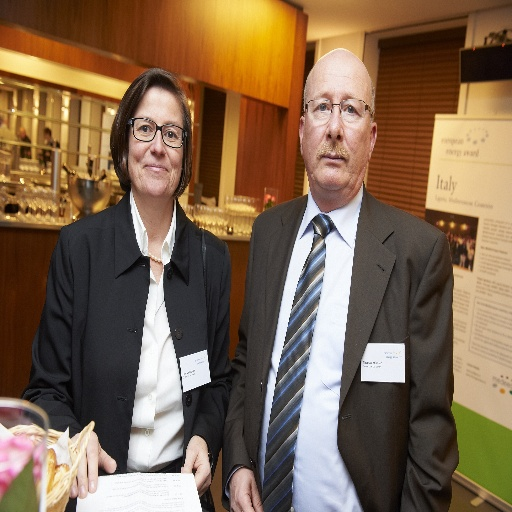hand: (69, 430, 117, 499), (181, 442, 215, 507), (227, 467, 263, 511)
